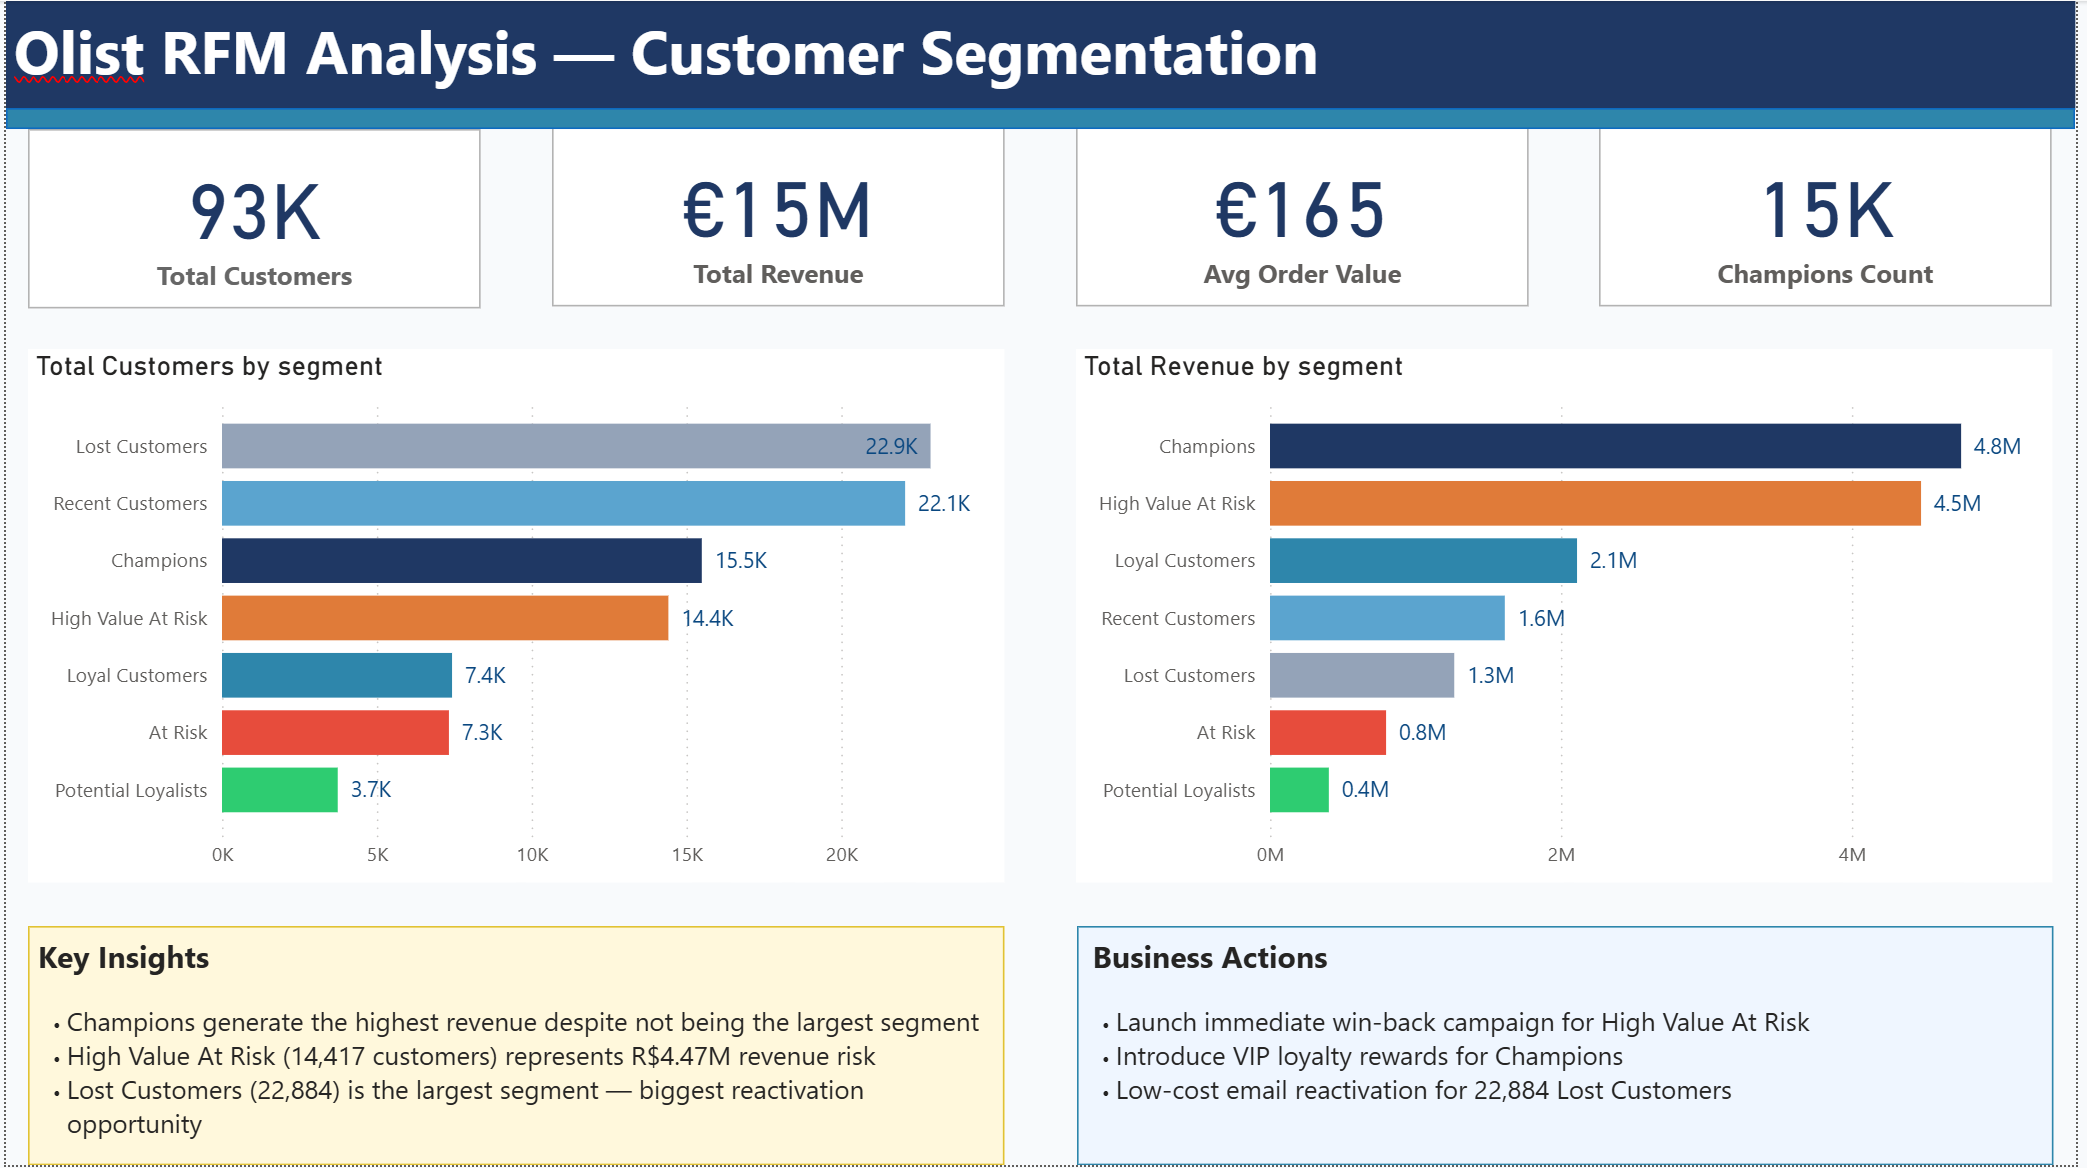

What the dashboard file says about the page in this screenshot:
{"tool":"powerbi","page":{"name":"Executive Overview","canvas":[1280,720],"ordinal":0},"visuals":[{"type":"card","fields":{"Values":["rfm_segments_final.Total Revenue"]},"box":[337.7,78,280.1,111.2],"z":0},{"type":"card","fields":{"Values":["rfm_segments_final.Total Customers"]},"box":[13.7,79,280.1,111.2],"z":1000},{"type":"textbox","box":[0,0,1279.8,67.4],"z":2000},{"type":"card","fields":{"Values":["rfm_segments_final.Avg Order Value"]},"box":[661.6,78,280.1,111.2],"z":3000},{"type":"card","fields":{"Values":["rfm_segments_final.Champions Count"]},"box":[985.5,78,280.1,111.2],"z":4000},{"type":"shape","box":[0,66,1279.8,13],"z":5000},{"type":"barChart","fields":{"Category":["rfm_segments_final.segment"],"Y":["rfm_segments_final.Total Customers"]},"box":[13.7,215.3,604,330.5],"z":6000},{"type":"barChart","fields":{"Category":["rfm_segments_final.segment"],"Y":["rfm_segments_final.Total Revenue"]},"box":[661.6,215.3,604,330.5],"z":7000},{"type":"textbox","box":[13.7,571.9,604,147.9],"z":8000},{"type":"textbox","box":[662.2,571.9,604,147.9],"z":9000}]}

Visuals, with their boxes in screenshot pixels (x1, y1, x2, y2), scaled from the page's 1280x720 canvas onto the 2087x1168 screenshot:
card - rfm_segments_final.Total Revenue: <region>551, 127, 1007, 307</region>
card - rfm_segments_final.Total Customers: <region>22, 128, 479, 309</region>
textbox: <region>0, 0, 2086, 109</region>
card - rfm_segments_final.Avg Order Value: <region>1079, 127, 1535, 307</region>
card - rfm_segments_final.Champions Count: <region>1607, 127, 2064, 307</region>
shape: <region>0, 107, 2086, 128</region>
barChart - rfm_segments_final.segment x rfm_segments_final.Total Customers: <region>22, 349, 1007, 885</region>
barChart - rfm_segments_final.segment x rfm_segments_final.Total Revenue: <region>1079, 349, 2064, 885</region>
textbox: <region>22, 928, 1007, 1167</region>
textbox: <region>1080, 928, 2064, 1167</region>
